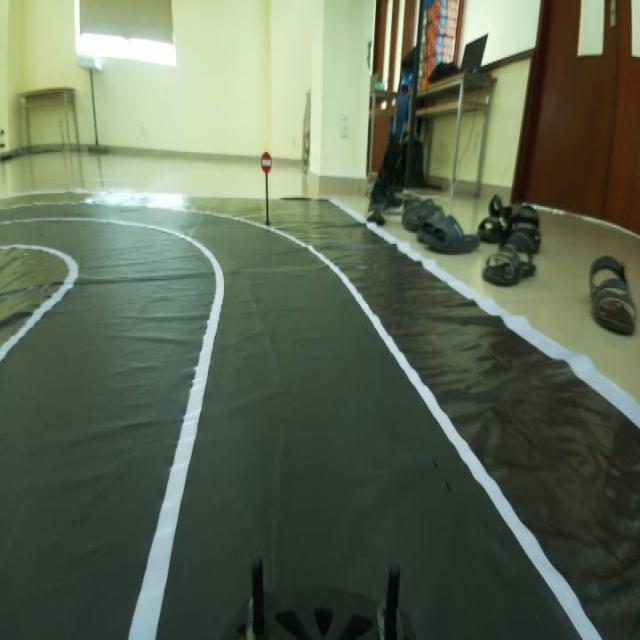no_entry: (258, 150, 277, 178)
